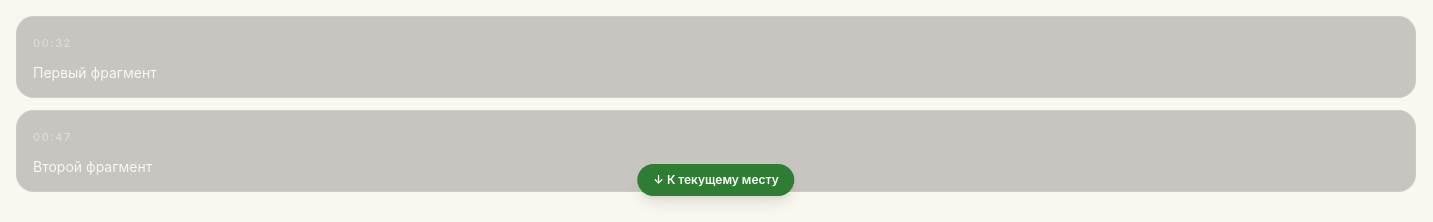
Scenario: VideoTranscriptPanel › ручной скролл выключает следование, кнопка возвращает к текущему месту
This screenshot has width=1433, height=222.
Step 1. Click the button "↓ К текущему месту" → (716, 180), box [637,164,795,196]
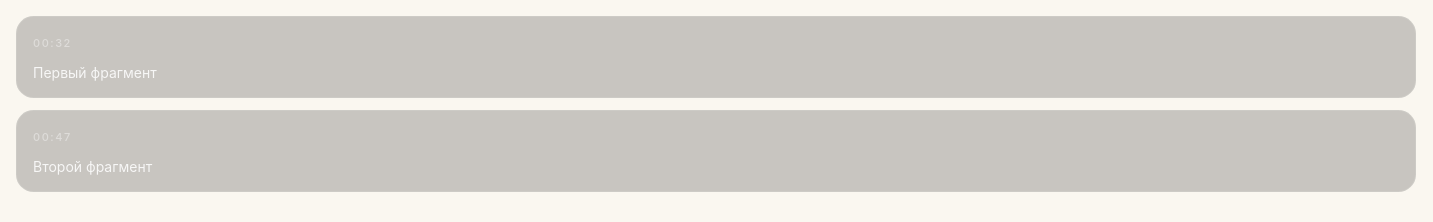
Now the button "↓ К текущему месту" is gone
